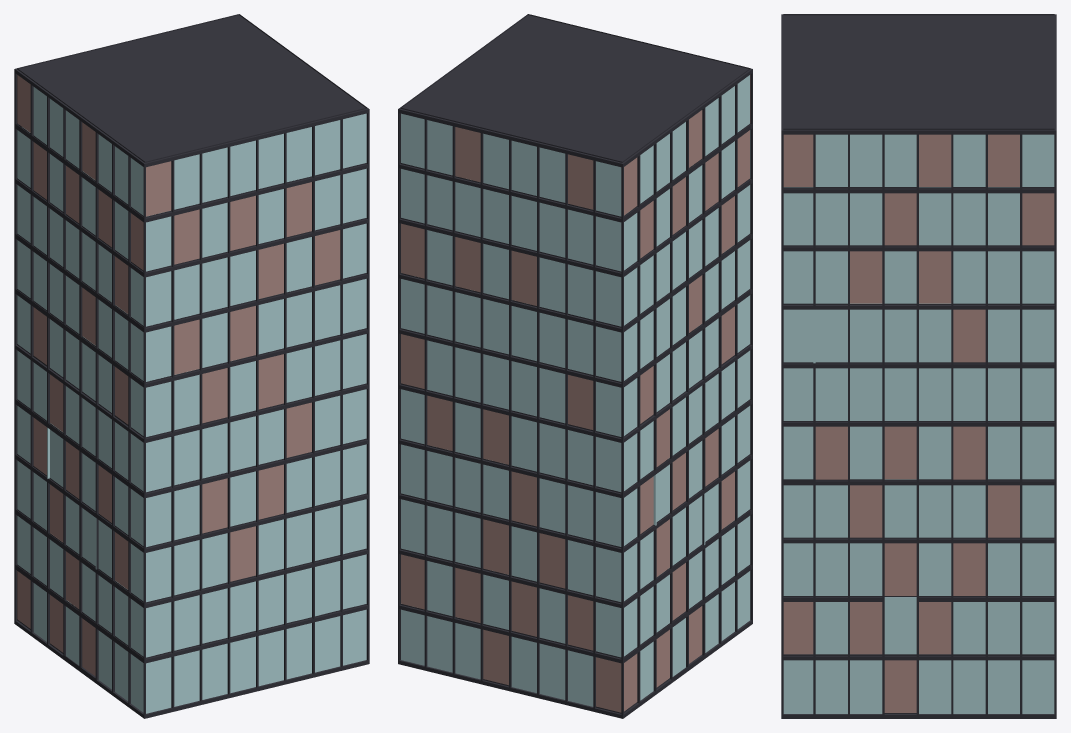
Rendered from OhnoRIn1.fbx.
3 renders of one model, left to right at view 1: azimuth 30°, elevation 25°; view 2: azimuth 150°, elevation 25°; view 3: azimuth 270°, elevation 25°, orthographic. The views are drawn at different scales.
Parts seen in each view (by area): view 1: Bill1; view 2: Bill1; view 3: Bill1.
Boxes of the visible parts, x1,y1,x2,y2 form: Bill1: (14, 14, 369, 718); Bill1: (398, 14, 752, 718); Bill1: (781, 14, 1056, 718).
Size of the model in its own units: 234 by 552 by 234.
